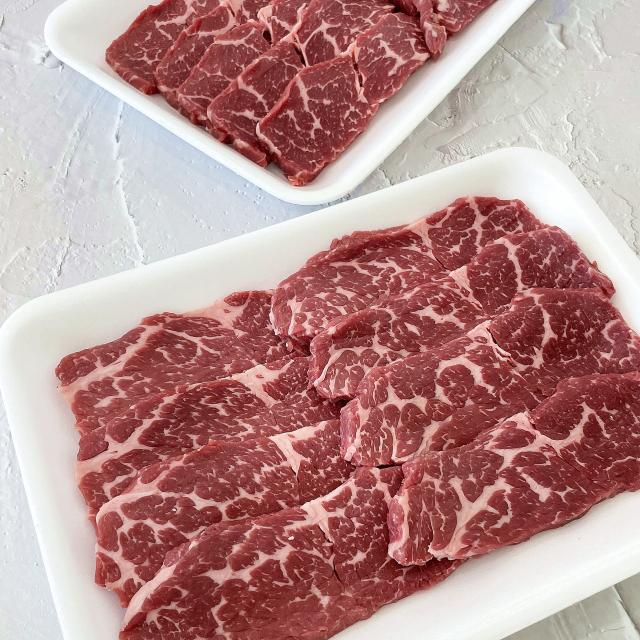beef: (110, 338, 314, 550), (444, 256, 614, 458), (171, 8, 382, 124), (300, 284, 452, 413)
